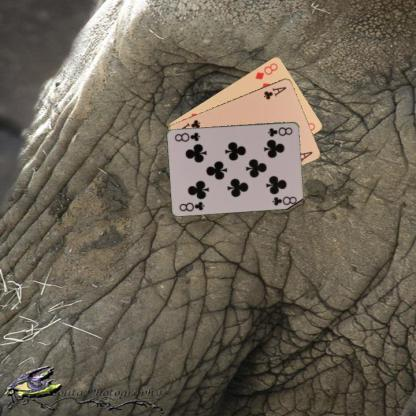8c: (176, 198, 206, 212), (265, 124, 294, 138)
8d: (253, 60, 279, 81)
Ac: (261, 83, 288, 100)
